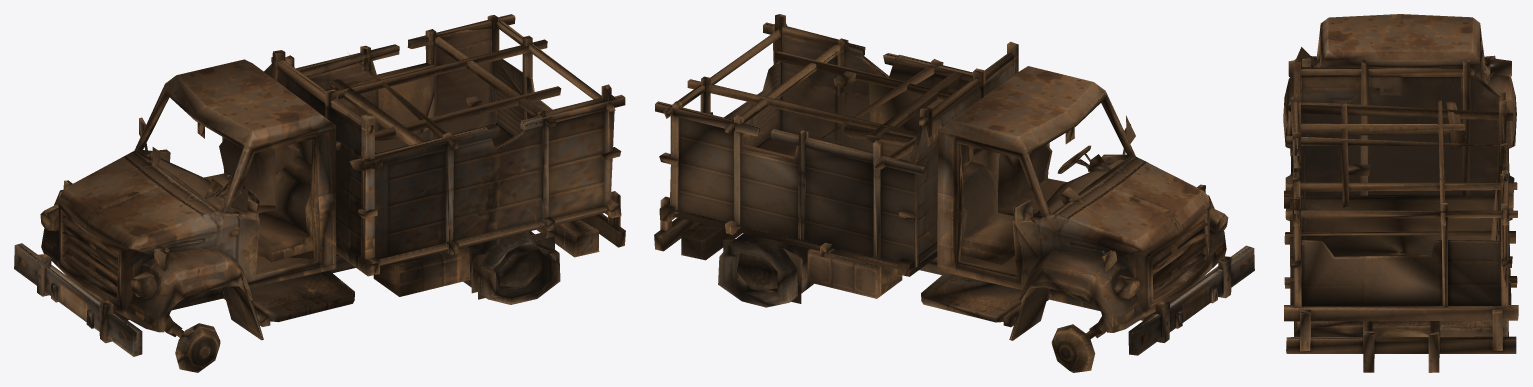
Rendered from Meshy_AI_Desert_Relic_0831095526_texture.fbx.
The picture shows the model from 3 angles, left to right: view 1: azimuth 30°, elevation 25°; view 2: azimuth 150°, elevation 25°; view 3: azimuth 270°, elevation 25°; orthographic projection. The views are drawn at different scales.
Visible parts, largest first — view 1: mesh_node; view 2: mesh_node; view 3: mesh_node.
Part boxes in pixels (bbox=[...]): mesh_node: bbox=[14, 14, 625, 372]; mesh_node: bbox=[654, 14, 1254, 372]; mesh_node: bbox=[1283, 14, 1518, 372].
Bounding box in the file's own units: 100 × 42.68 × 43.16.
Materials: 1 (1 with a texture image).
